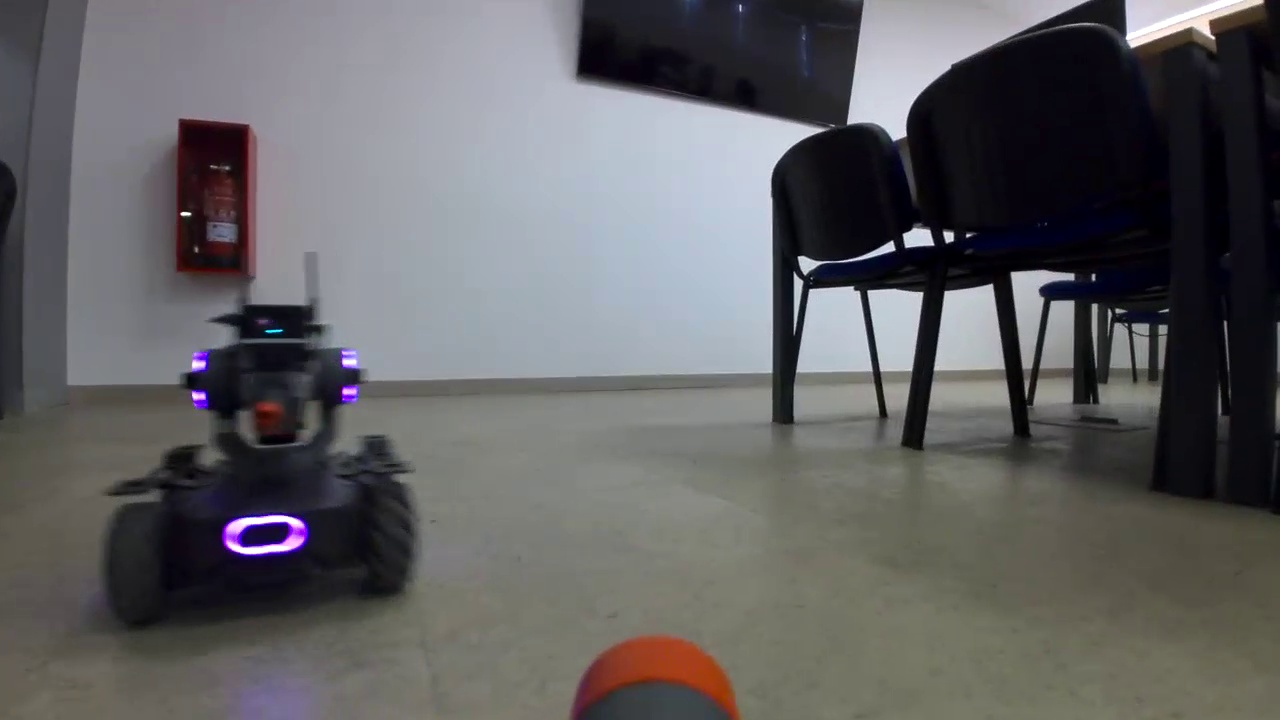robot: (100, 320, 415, 625)
